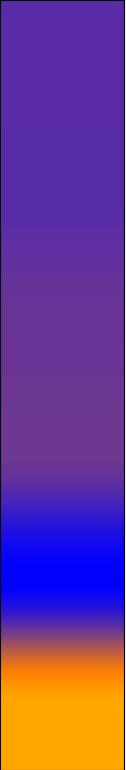Thermal Runaway: (6, 680, 118, 760)
critical: (8, 286, 116, 460), (10, 634, 116, 671)
safe: (6, 9, 118, 273), (11, 471, 118, 628)
